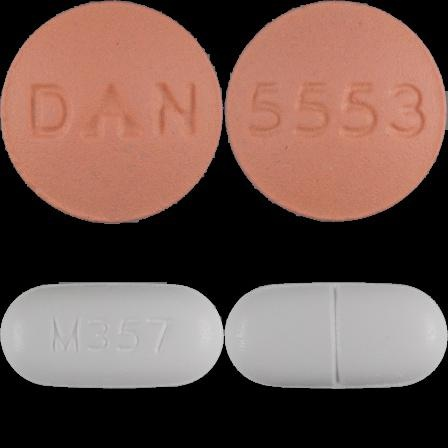0440-7482: (0, 0, 224, 224)
